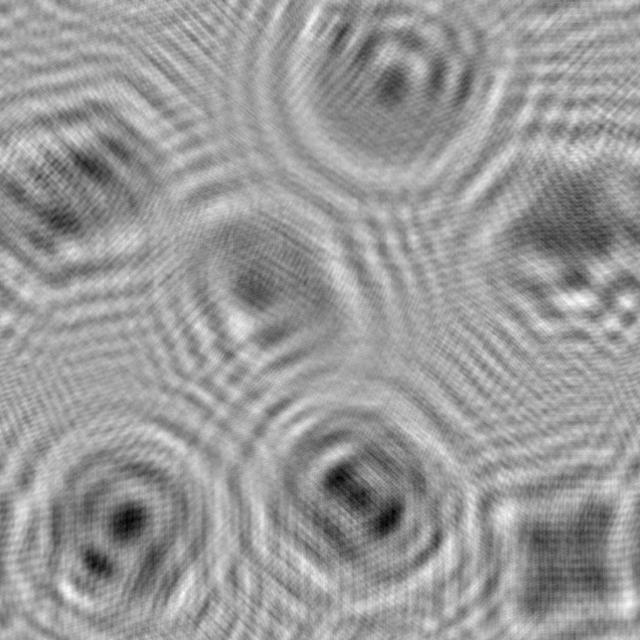B: (213, 357, 501, 640)
K: (430, 99, 640, 366)
L: (124, 150, 406, 424)
R: (0, 393, 259, 640)
U: (260, 0, 529, 193)
X: (447, 430, 640, 640)
Z: (0, 59, 219, 319)
